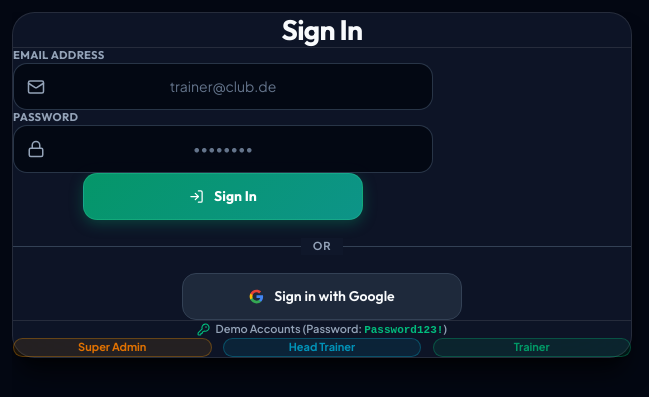
LoginForm › displays error message when login fails
Type "wrong@club.de" into the field labelled "Email Address" at (223, 87), box [13, 63, 433, 110]
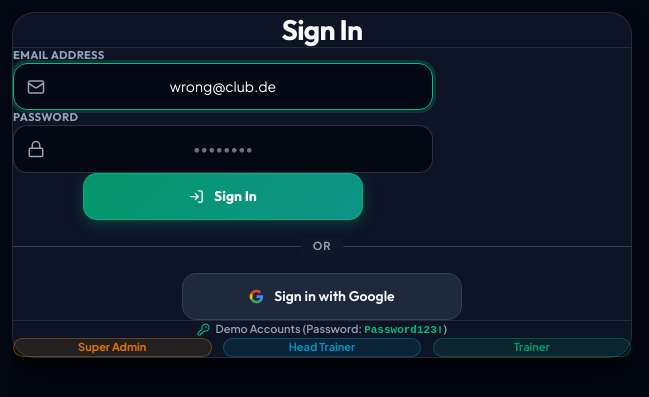
Type "WrongPass123!" into the password field labelled "Password" at (223, 149), box [13, 125, 433, 173]
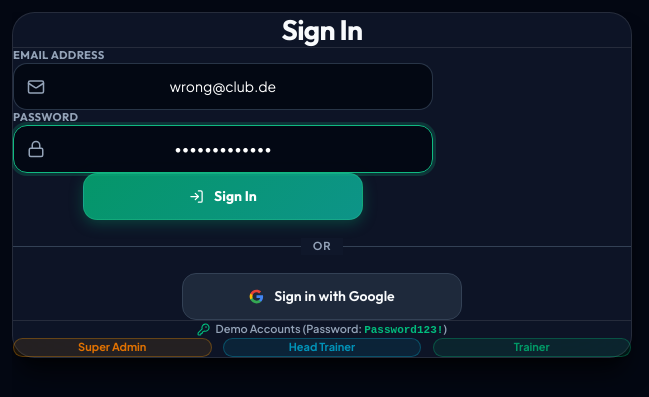
Click the button "Sign In" at (223, 196), box [83, 173, 363, 220]
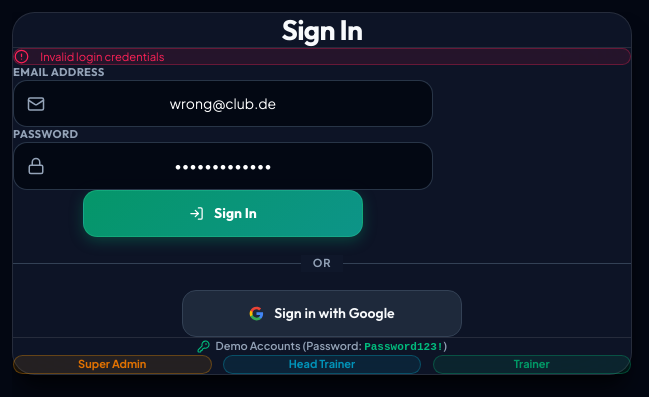
Now the text "Invalid login credentials" is shown, box [40, 49, 164, 64]
